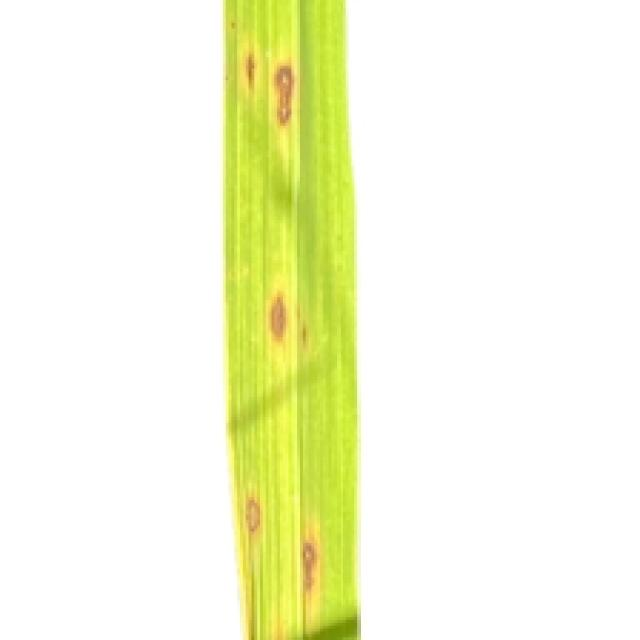Rice___Rice_Blast: (225, 0, 358, 637)
